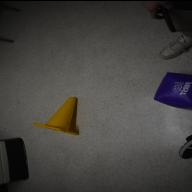cone: (32, 96, 79, 135)
cube: (153, 70, 192, 110)
